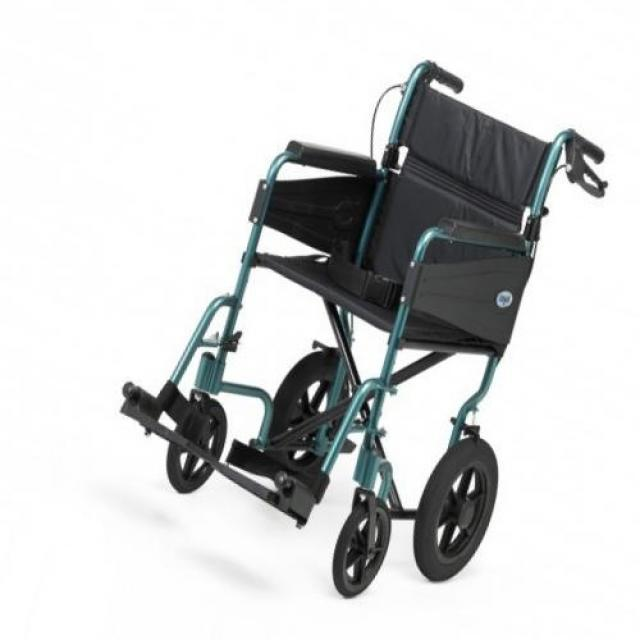wheelchair: (116, 40, 615, 607)
